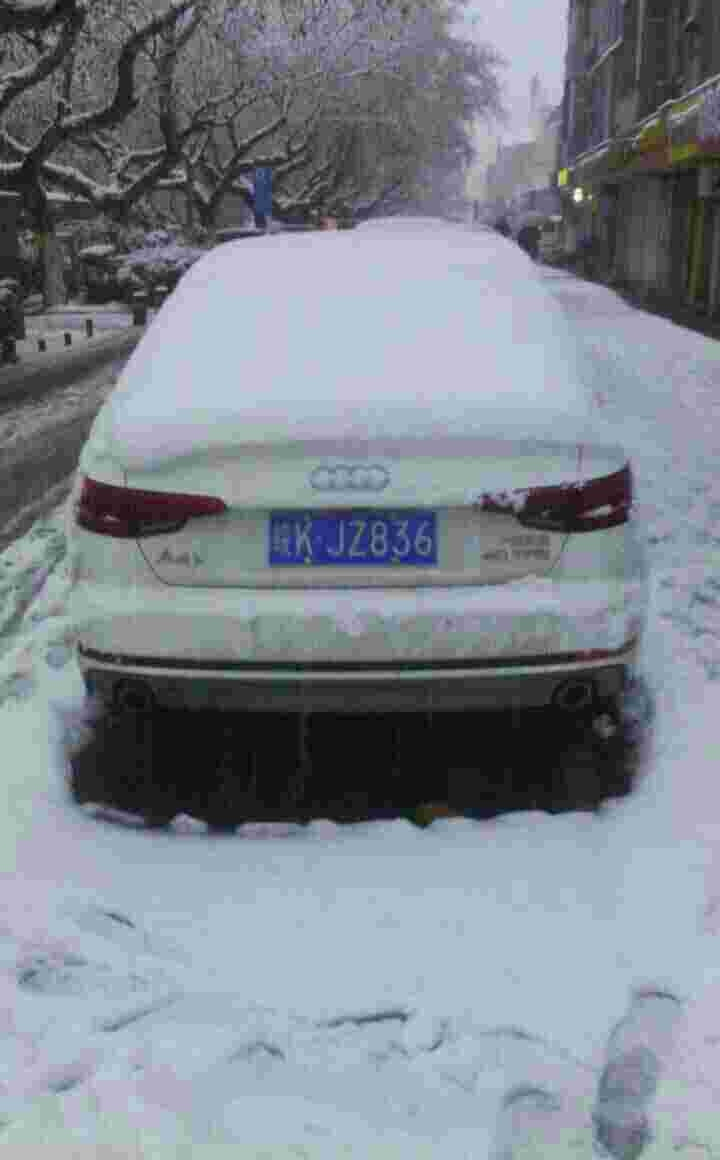plate: (252, 484, 454, 586)
